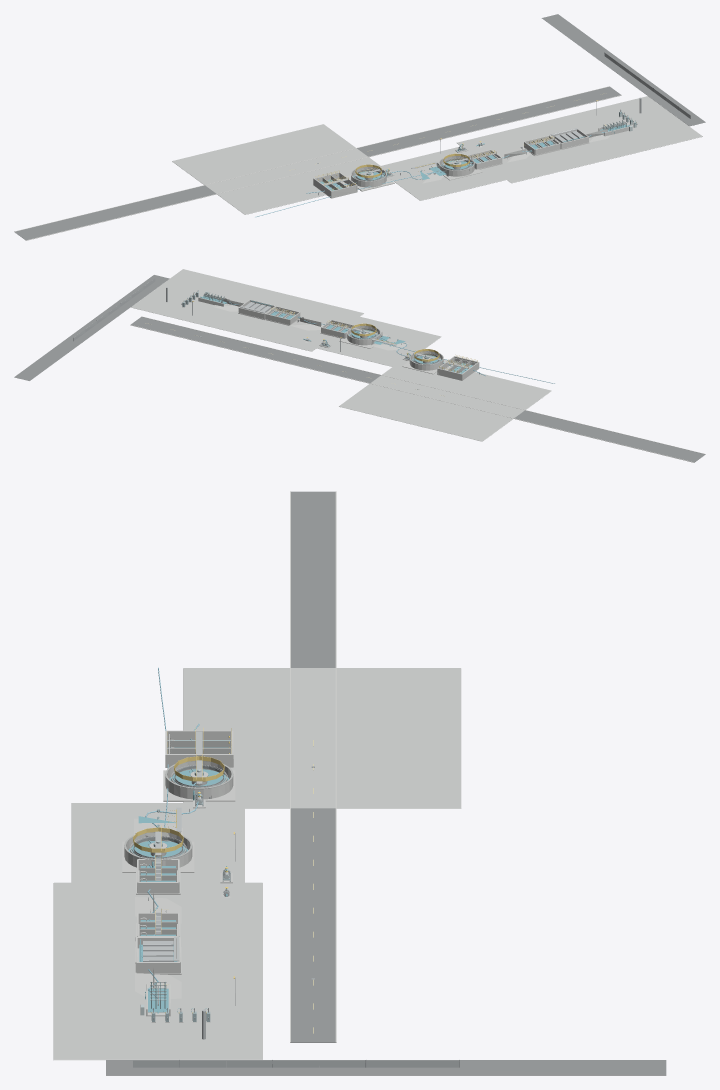
3 views of the same model, one above another, from view 1: azimuth 30°, elevation 25°; view 2: azimuth 150°, elevation 25°; view 3: azimuth 270°, elevation 25° (orthographic). The views are drawn at different scales.
Visible parts, largest first — view 1: render-batch-11, render-batch-2, render-batch-12, render-batch-13, render-batch-9, render-batch-8, render-batch-0, render-batch-17, render-batch-7; view 2: render-batch-11, render-batch-2, render-batch-12, render-batch-13, render-batch-9, render-batch-8, render-batch-0, render-batch-17, render-batch-7; view 3: render-batch-11, render-batch-2, render-batch-12, render-batch-7, render-batch-8, render-batch-9, render-batch-0, render-batch-13, render-batch-17.
Part boxes in pixels (x1,y1,x2,y2): render-batch-11: (172,96,702,214); render-batch-2: (14,14,705,240); render-batch-12: (313,116,636,198); render-batch-13: (14,86,621,240); render-batch-9: (323,109,635,185); render-batch-8: (322,129,607,189); render-batch-0: (320,110,636,190); render-batch-17: (315,114,636,190); render-batch-7: (604,52,690,118); render-batch-11: (131,269,551,441); render-batch-2: (14,275,705,462); render-batch-12: (182,293,479,380); render-batch-13: (130,316,705,462); render-batch-9: (183,290,470,368); render-batch-8: (223,299,470,372); render-batch-0: (184,290,472,373); render-batch-17: (186,294,477,372); render-batch-7: (73,278,167,340); render-batch-11: (53,668,461,1060); render-batch-2: (106,491,666,1075); render-batch-12: (122,730,235,1022); render-batch-7: (133,1009,458,1067); render-batch-8: (124,740,233,990); render-batch-9: (131,731,229,1012); render-batch-0: (128,740,230,1013); render-batch-13: (290,491,336,1042); render-batch-17: (133,728,231,1013).
Size of the model in its own units: 303 by 7.11 by 134.
